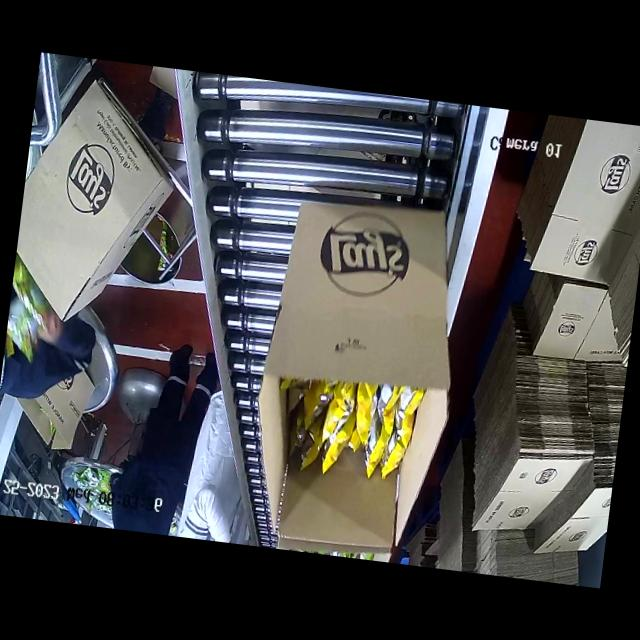salted: (276, 366, 427, 506)
